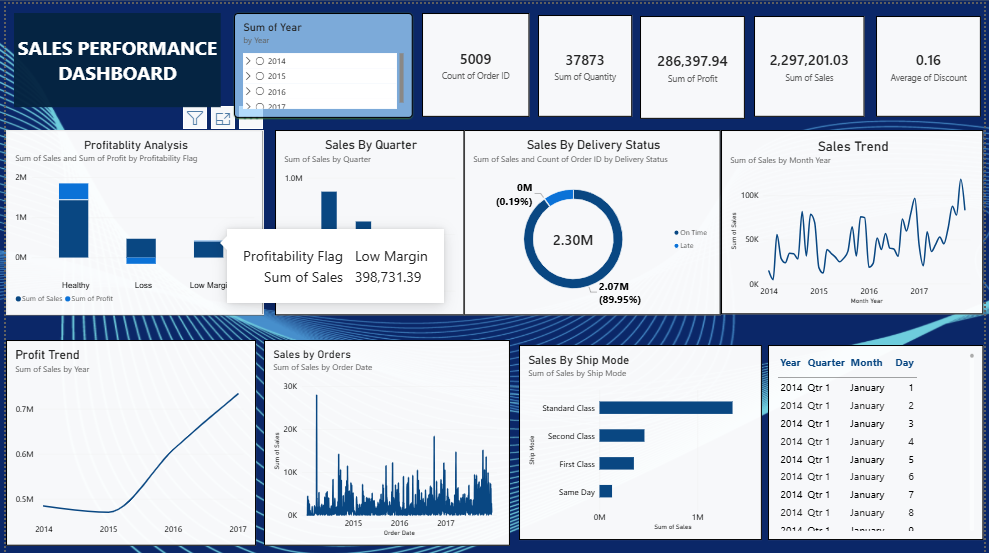

The dashboard page shown, as its layout file describes it:
{"tool":"powerbi","page":{"name":"sales performance dashboard","canvas":[1920,1080],"ordinal":0},"visuals":[{"type":"tableEx","fields":{"Values":["dim_date.Date.Variation.Date Hierarchy.Year","dim_date.Date.Variation.Date Hierarchy.Quarter","dim_date.Date.Variation.Date Hierarchy.Month","dim_date.Date.Variation.Date Hierarchy.Day"]},"box":[1495.7,670.2,423.4,383],"z":1},{"type":"lineChart","title":"Sales by Orders","fields":{"Category":["fact_sales.Order Date"],"Y":["Sum(fact_sales.Sales)"]},"box":[506.4,659.6,483,404.3],"z":5},{"type":"card","fields":{"Values":["Sum(fact_sales.Sales)"]},"box":[1468.1,23.4,217,197.9],"z":7},{"type":"card","fields":{"Values":["Sum(fact_sales.Profit)"]},"box":[1244.7,23.4,206.4,202.1],"z":8},{"type":"card","fields":{"Values":["Sum(fact_sales.Quantity)"]},"box":[1044.7,21.3,185.1,200],"z":9},{"type":"card","fields":{"Values":["Count(fact_sales.Order ID)"]},"box":[817,17,210.6,204.3],"z":10},{"type":"card","fields":{"Values":["Avg(fact_sales.Discount)"]},"box":[1708.5,23.4,206.4,197.9],"z":11},{"type":"lineChart","title":"Sales Trend","fields":{"Category":["dim_date.Month Year"],"Y":["Sum(fact_sales.Sales)"]},"box":[1404.3,246.8,514.9,361.7],"z":12},{"type":"donutChart","title":"Sales By Delivery Status","fields":{"Category":["fact_sales.Delivery Status"],"Y":["Sum(fact_sales.Sales)","Count(fact_sales.Order ID)"]},"box":[900,246.8,504.3,363.8],"z":13},{"type":"clusteredBarChart","title":"Sales By Ship Mode","fields":{"Category":["fact_sales.Ship Mode"],"Y":["Sum(fact_sales.Sales)"]},"box":[1006.4,670.2,476.6,383],"z":14},{"type":"columnChart","title":"Profitablity Analysis","fields":{"Category":["fact_sales.Profitability Flag"],"Y":["Sum(fact_sales.Sales)","Sum(fact_sales.Profit)"]},"box":[0,246.8,506.4,363.8],"z":15},{"type":"lineChart","title":"Profit Trend","fields":{"Category":["dim_date.Month Year.Variation.Date Hierarchy.Year","dim_date.Month Year.Variation.Date Hierarchy.Quarter","dim_date.Month Year.Variation.Date Hierarchy.Month","dim_date.Month Year.Variation.Date Hierarchy.Day"],"Y":["Sum(fact_sales.Sales)"]},"box":[0,659.6,491.5,404.3],"z":16},{"type":"clusteredColumnChart","title":"Sales By Quarter","fields":{"Category":["dim_date.Quarter"],"Y":["Sum(fact_sales.Sales)"]},"box":[527.7,246.8,372.3,363.8],"z":17},{"type":"listSlicer","fields":{"Values":["dim_date.Month Year.Variation.Date Hierarchy.Year","dim_date.Month Year.Variation.Date Hierarchy.Quarter","dim_date.Month Year.Variation.Date Hierarchy.Month","dim_date.Month Year.Variation.Date Hierarchy.Day","dim_date.Quarter","fact_sales.Delivery Status","fact_sales.Ship Mode","fact_sales.Discount Band"]},"box":[446.8,17,351.1,206.4],"z":18},{"type":"textbox","box":[14.9,17,406.4,185.1],"z":19}]}

Visuals, with their boxes in screenshot pixels (x1, y1, x2, y2), scaled from the page's 1920x1080 canvas onto the 989x553 screenshot:
tableEx - dim_date.Date.Variation.Date Hierarchy.Year x dim_date.Date.Variation.Date Hierarchy.Quarter: x1=770 y1=343 x2=988 y2=539
"Sales by Orders" lineChart: x1=261 y1=338 x2=510 y2=545
card - Sum(fact_sales.Sales): x1=756 y1=12 x2=868 y2=113
card - Sum(fact_sales.Profit): x1=641 y1=12 x2=747 y2=115
card - Sum(fact_sales.Quantity): x1=538 y1=11 x2=633 y2=113
card - Count(fact_sales.Order ID): x1=421 y1=9 x2=529 y2=113
card - Avg(fact_sales.Discount): x1=880 y1=12 x2=986 y2=113
"Sales Trend" lineChart: x1=723 y1=126 x2=988 y2=312
"Sales By Delivery Status" donutChart: x1=464 y1=126 x2=723 y2=313
"Sales By Ship Mode" clusteredBarChart: x1=518 y1=343 x2=764 y2=539
"Profitablity Analysis" columnChart: x1=0 y1=126 x2=261 y2=313
"Profit Trend" lineChart: x1=0 y1=338 x2=253 y2=545
"Sales By Quarter" clusteredColumnChart: x1=272 y1=126 x2=464 y2=313
listSlicer - dim_date.Month Year.Variation.Date Hierarchy.Year x dim_date.Month Year.Variation.Date Hierarchy.Quarter: x1=230 y1=9 x2=411 y2=114
textbox: x1=8 y1=9 x2=217 y2=103
